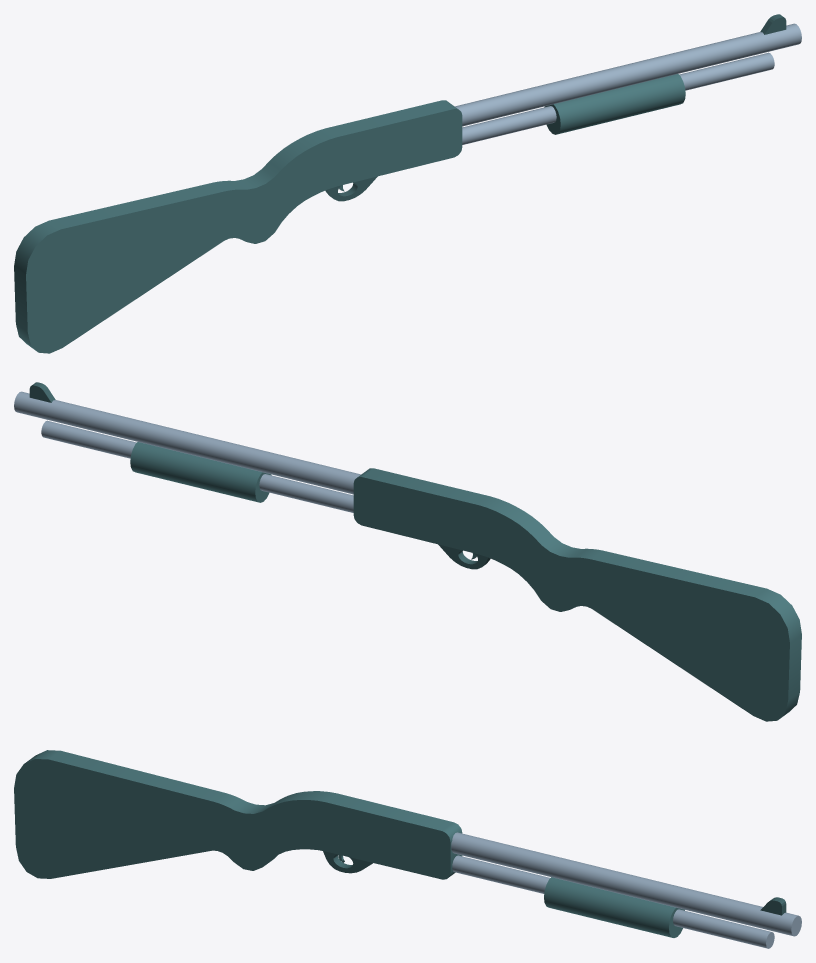
Rendered from Shortgun.fbx.
3 renders of one model, top to bottom at view 1: azimuth 30°, elevation 25°; view 2: azimuth 150°, elevation 25°; view 3: azimuth 330°, elevation 25°, orthographic.
Parts seen in each view (by area): view 1: Shotgun; view 2: Shotgun; view 3: Shotgun.
Boxes of the visible parts, bbox=[...] form: Shotgun: bbox=[14, 14, 801, 353]; Shotgun: bbox=[14, 382, 801, 721]; Shotgun: bbox=[14, 750, 801, 948].
Size of the model in its own units: 2.37 by 0.4476 by 0.0891.
